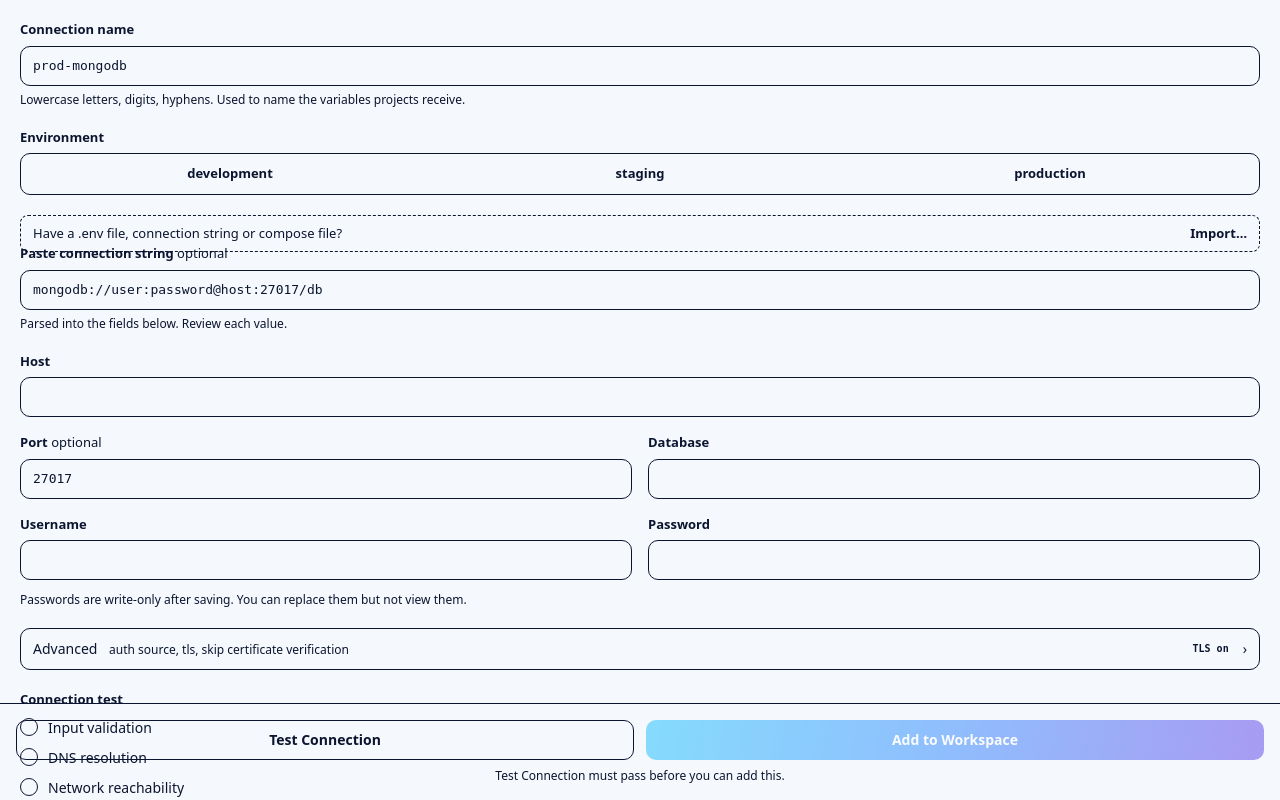
Test case: ConnectTab form › Add to Workspace stays disabled until a test passes for the current values
Expected: the button "Add to Workspace" is disabled, [646, 720, 1264, 760]
Type "prod-orders-db" into the field labelled "Connection name" at (640, 66), box [20, 46, 1260, 86]
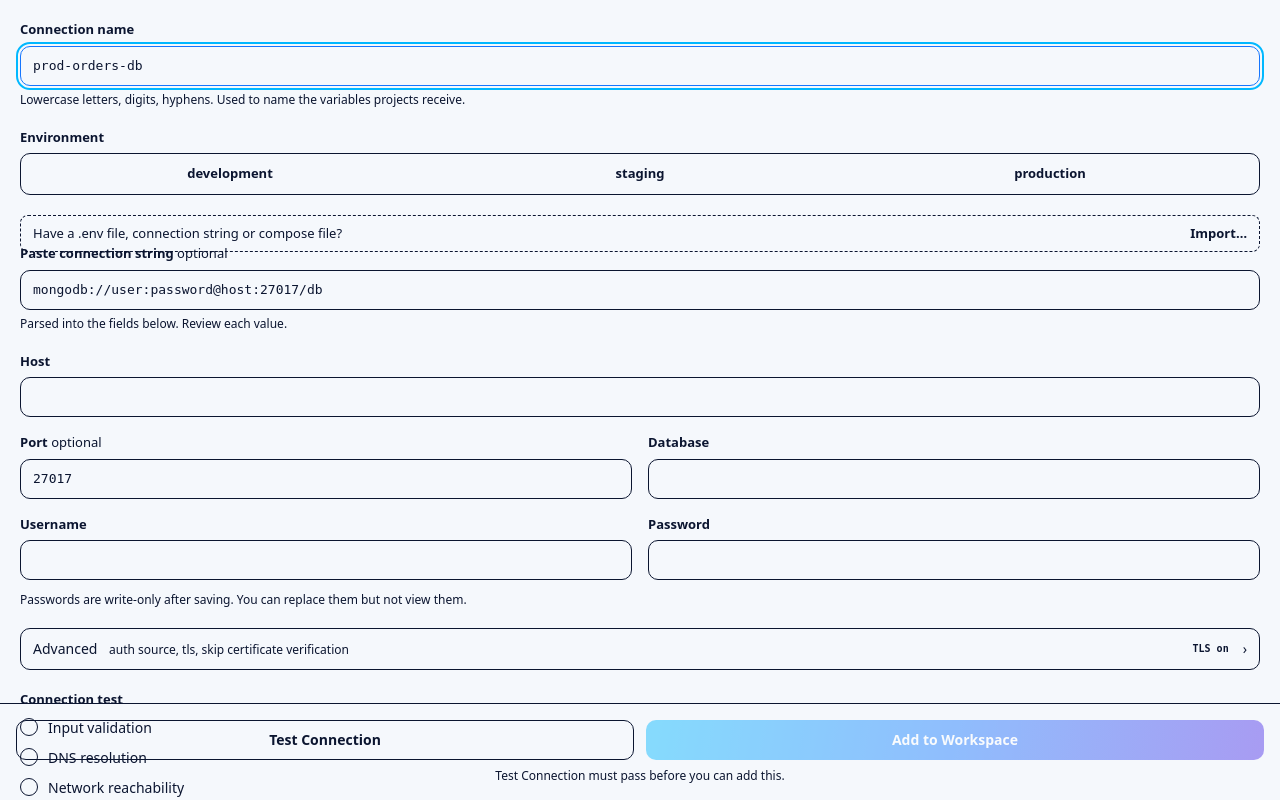
Type "orders.k3x9p.mongodb.net" into the field labelled "Host" at (640, 397), box [20, 377, 1260, 417]
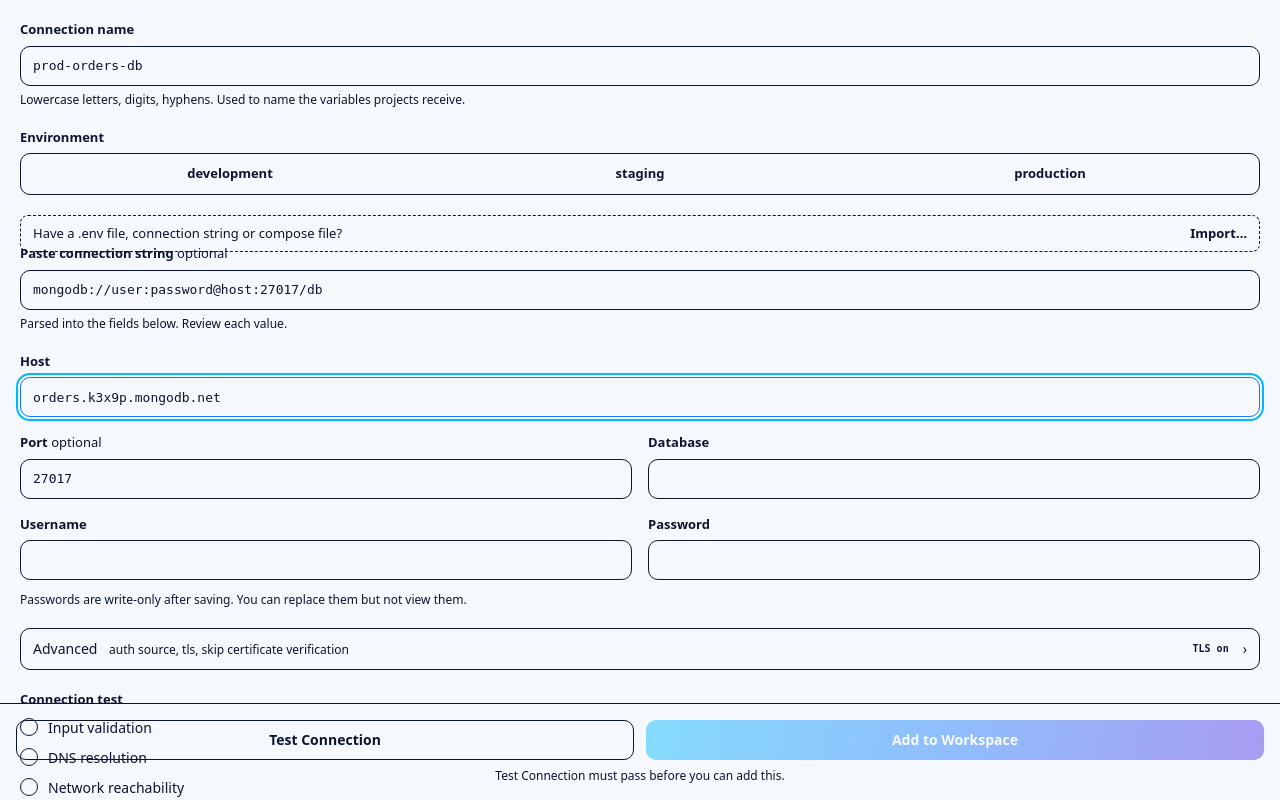
Type "orders" into the field labelled "Database" at (954, 478), box [648, 458, 1260, 498]
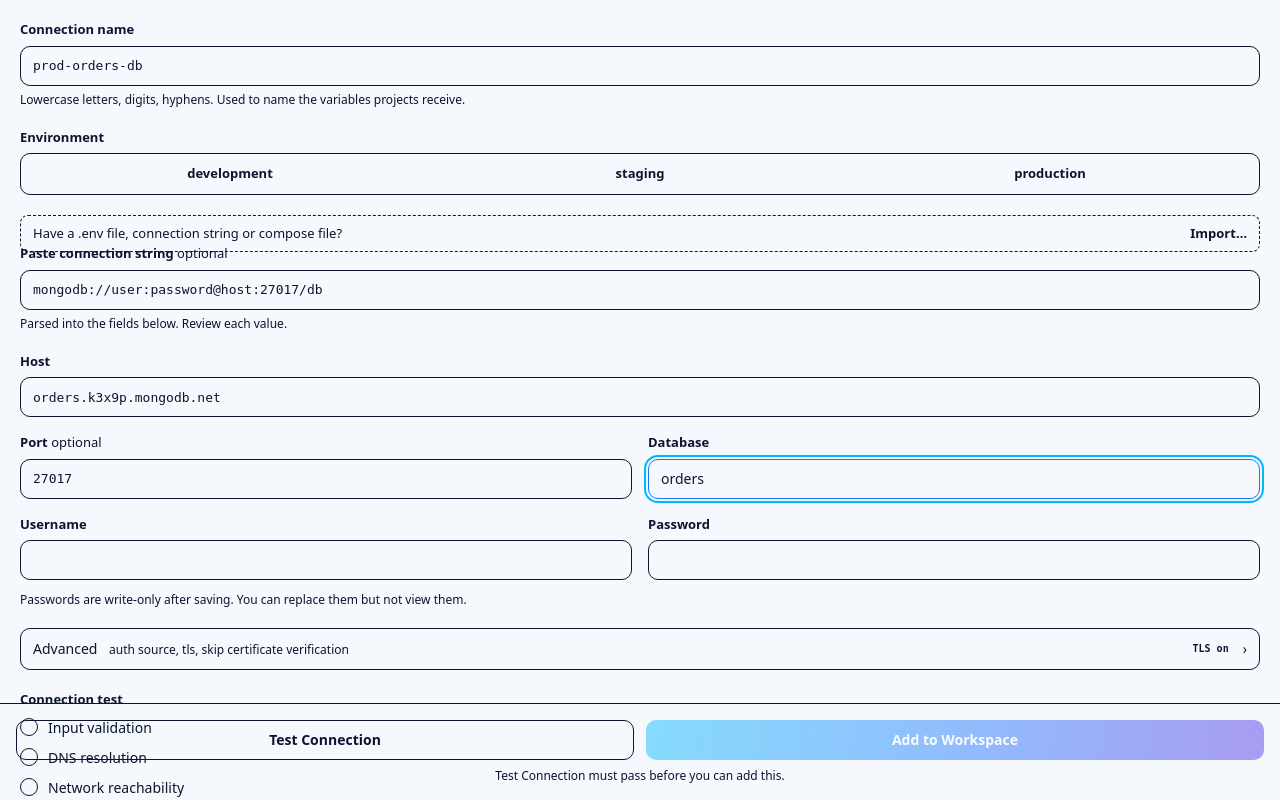
Type "orders_app" into the field labelled "Username" at (326, 560), box [20, 540, 632, 580]
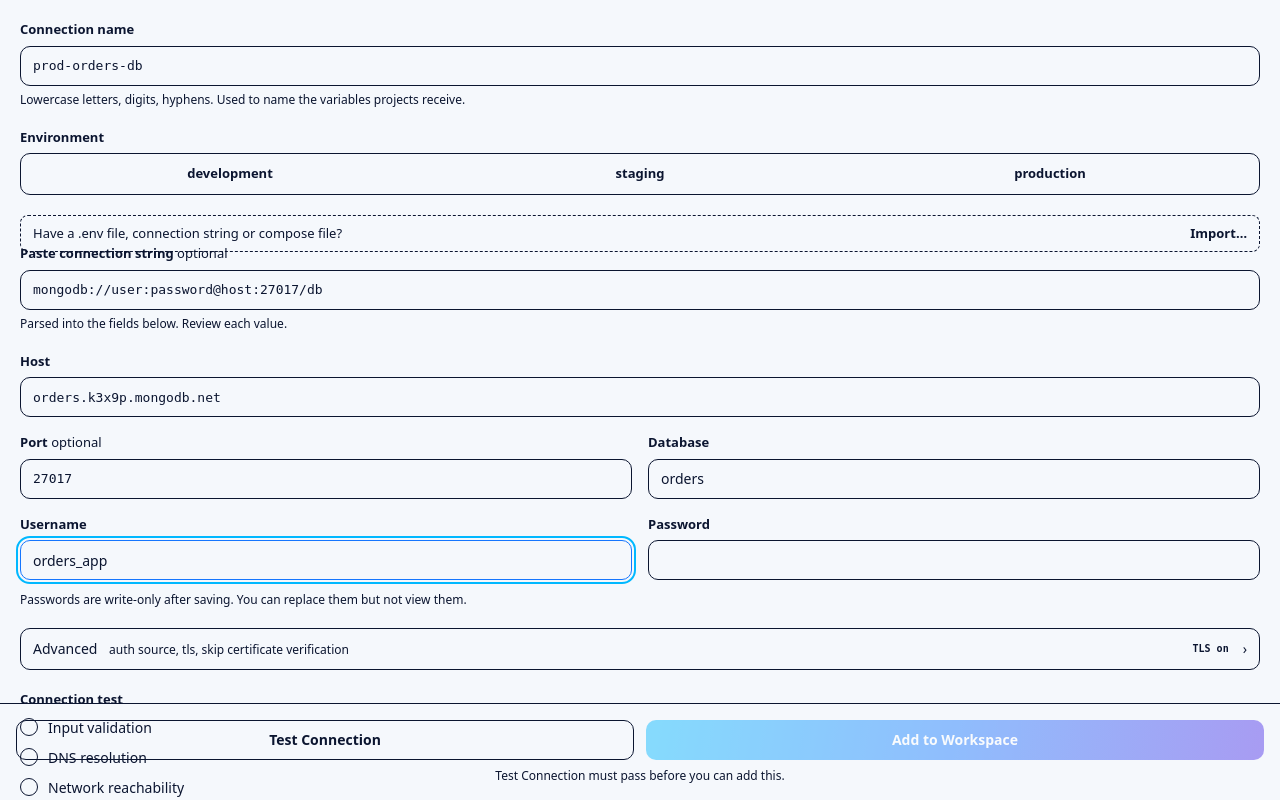
Type "S3cretPassw0rd" into the password field labelled "Password" at (954, 560), box [648, 540, 1260, 580]
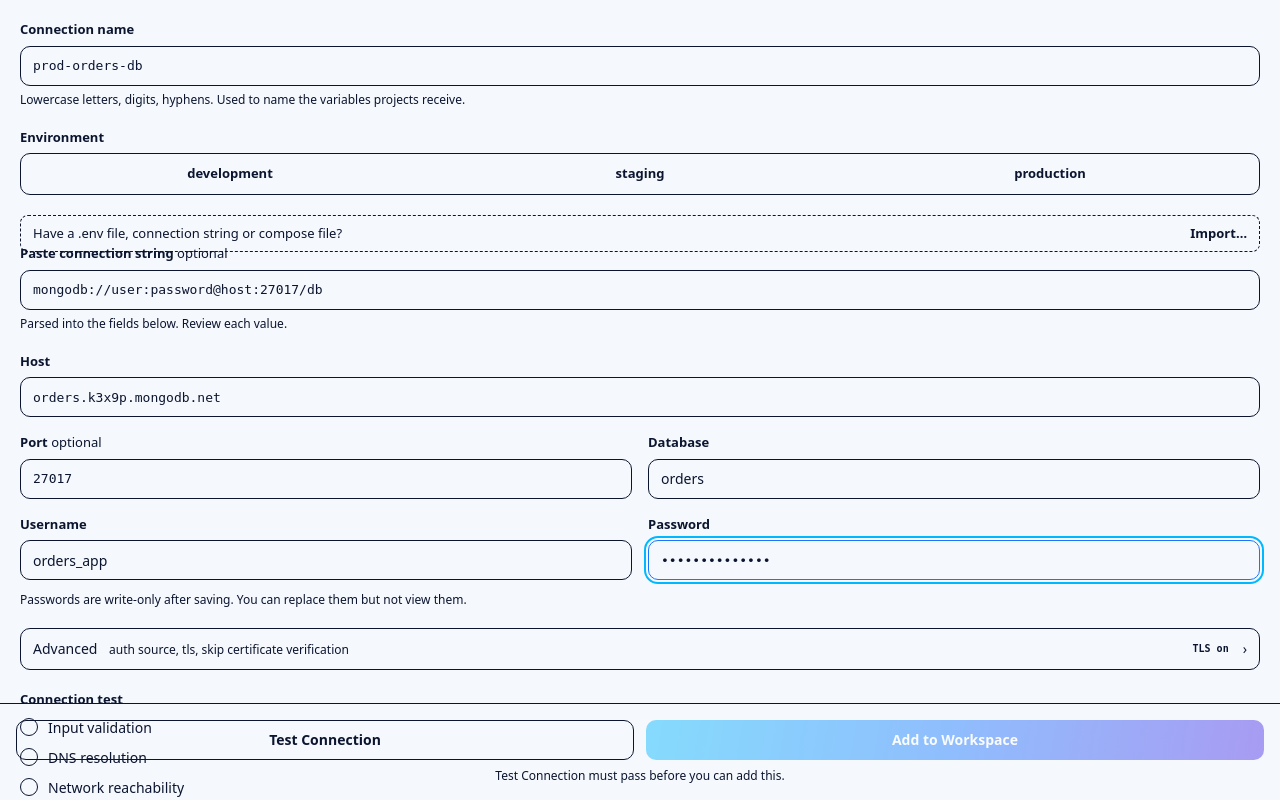
Click the button "Test Connection" at (325, 740), box [16, 720, 634, 760]
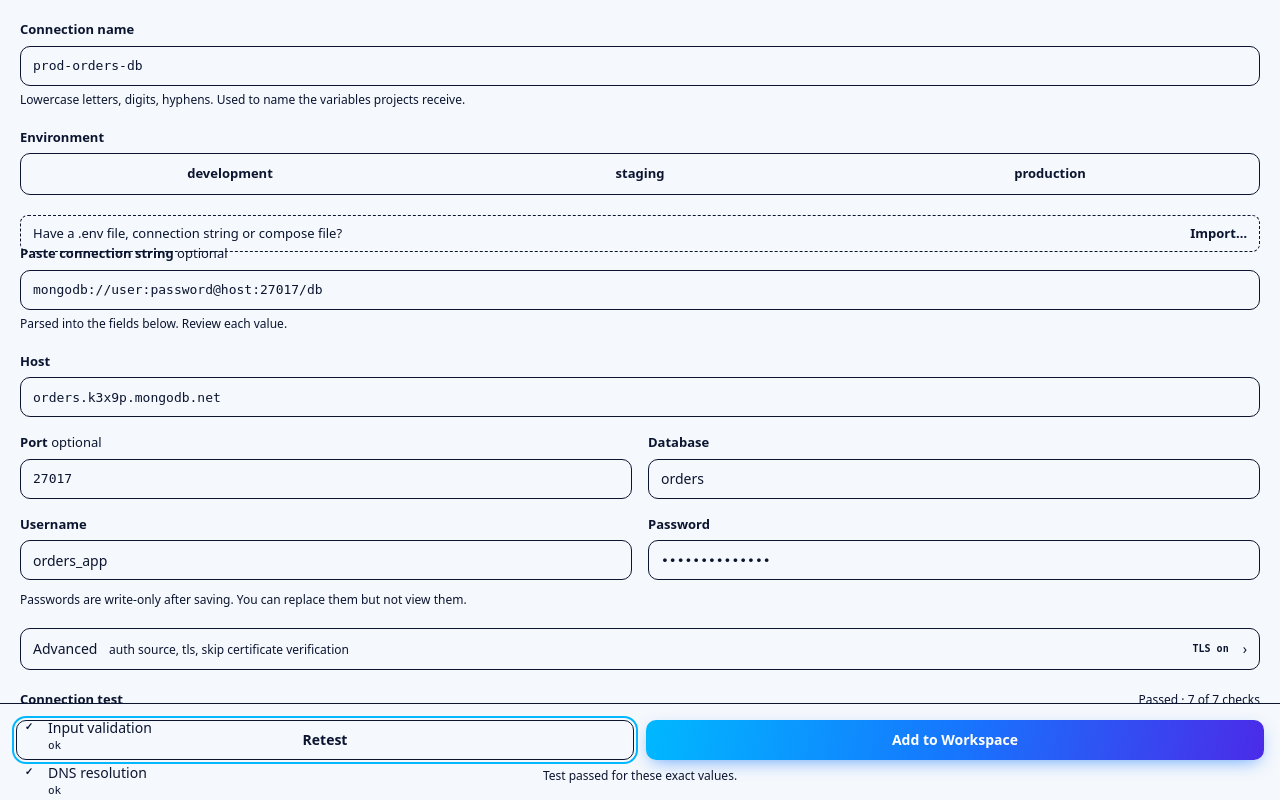
Expected: the text "Test passed for these exact values." is shown, [543, 767, 737, 784]
Expected: the message reads "Passed · 7 of 7 checks", [1139, 691, 1260, 708]
